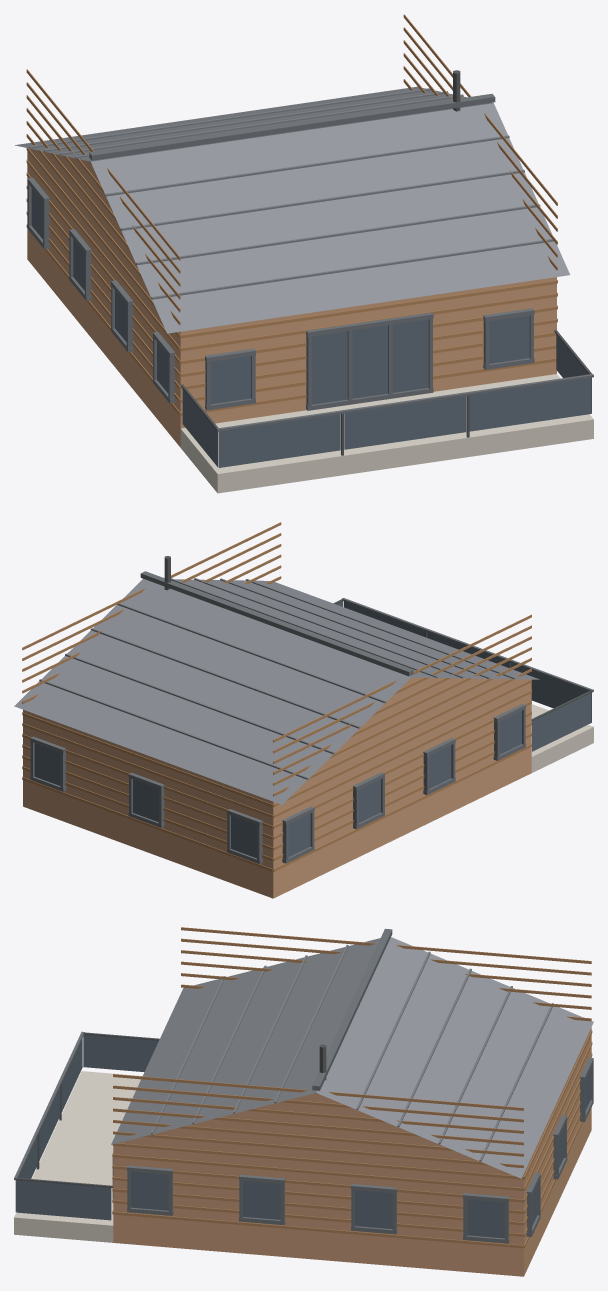
3 views of the same model, one above another, from view 1: azimuth 30°, elevation 25°; view 2: azimuth 150°, elevation 25°; view 3: azimuth 270°, elevation 25° (orthographic). The views are drawn at different scales.
Parts seen in each view (by area): view 1: slate_lt, timber_stain, timber_stain_dk, slate_dk, deck_grey, slate, window_glass_003, window_glass_002, window_glass_001, window_glass_006, window_glass_008, window_glass_007 (+5 smaller); view 2: slate_lt, timber_stain, timber_stain_dk, slate_dk, slate, window_glass_004, deck_grey, window_glass_001, window_glass_015, window_glass_017, window_glass_016, window_glass_018 (+4 smaller); view 3: slate_lt, timber_stain, timber_stain_dk, deck_grey, slate_dk, slate, window_glass_005, window_glass_004, window_glass_011, window_glass_014, window_glass_013, window_glass_012 (+4 smaller).
Part boxes in pixels (box(x1,y1,x2,y2)): slate_lt: box(15, 86, 569, 333); timber_stain: box(27, 149, 556, 447); timber_stain_dk: box(26, 14, 557, 415); slate_dk: box(27, 93, 593, 431); deck_grey: box(180, 374, 593, 493); slate: box(29, 88, 553, 299); window_glass_003: box(469, 377, 591, 431); window_glass_002: box(344, 396, 466, 449); window_glass_001: box(219, 414, 340, 467); window_glass_006: box(311, 331, 347, 404); window_glass_008: box(392, 319, 428, 392); window_glass_007: box(352, 325, 387, 398); slate_lt: box(14, 578, 539, 804); timber_stain: box(23, 677, 531, 898); timber_stain_dk: box(22, 522, 531, 871); slate_dk: box(30, 571, 593, 864); slate: box(39, 578, 515, 779); window_glass_004: box(532, 693, 591, 751); deck_grey: box(531, 704, 593, 772); window_glass_001: box(510, 663, 591, 722); window_glass_015: box(34, 743, 60, 785); window_glass_017: box(231, 815, 256, 858); window_glass_016: box(133, 779, 158, 821); window_glass_018: box(288, 813, 310, 857); slate_lt: box(111, 937, 593, 1178); timber_stain: box(113, 1027, 591, 1276); timber_stain_dk: box(112, 927, 592, 1248); deck_grey: box(14, 1071, 142, 1242); slate_dk: box(14, 928, 593, 1243); slate: box(151, 944, 553, 1161); window_glass_005: box(16, 1180, 111, 1220); window_glass_004: box(83, 1035, 158, 1072); window_glass_011: box(131, 1171, 168, 1210); window_glass_014: box(467, 1199, 504, 1238); window_glass_013: box(355, 1190, 392, 1229); window_glass_012: box(243, 1181, 280, 1219).
Size of the model in its own units: 10.87 by 5.36 by 13.76.
